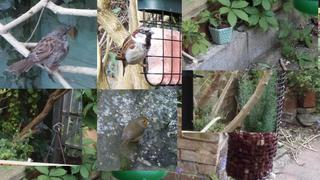dunnock: (5, 27, 70, 75)
robin: (119, 116, 151, 150)
sparrow: (115, 27, 155, 77)
